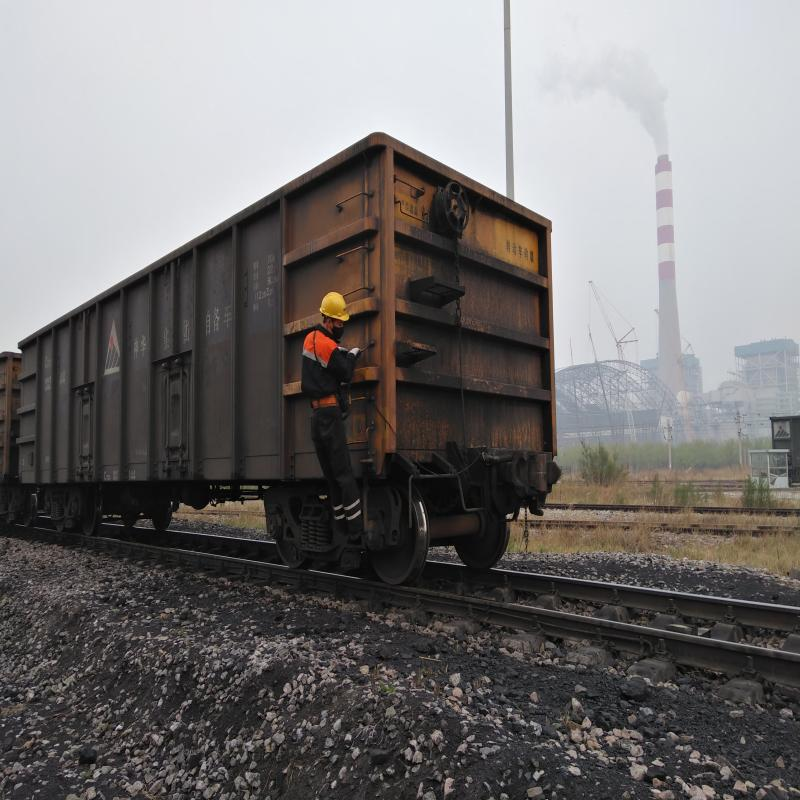train: (15, 341, 192, 534)
